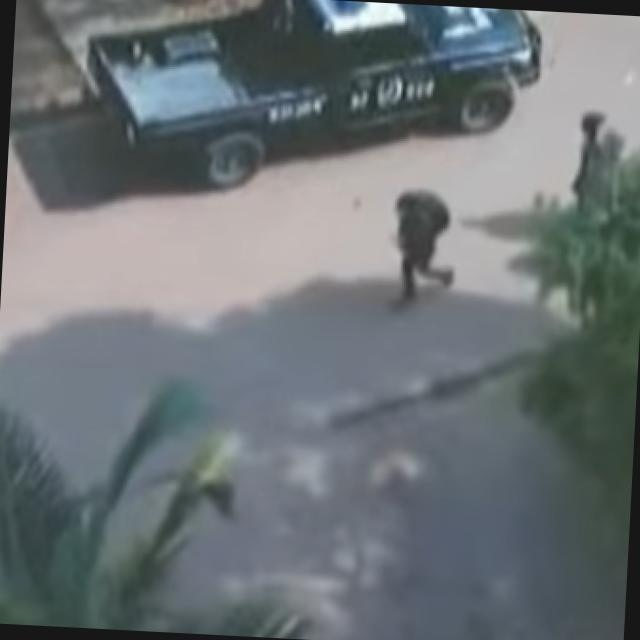person: (390, 188, 460, 309), (570, 110, 628, 217)
